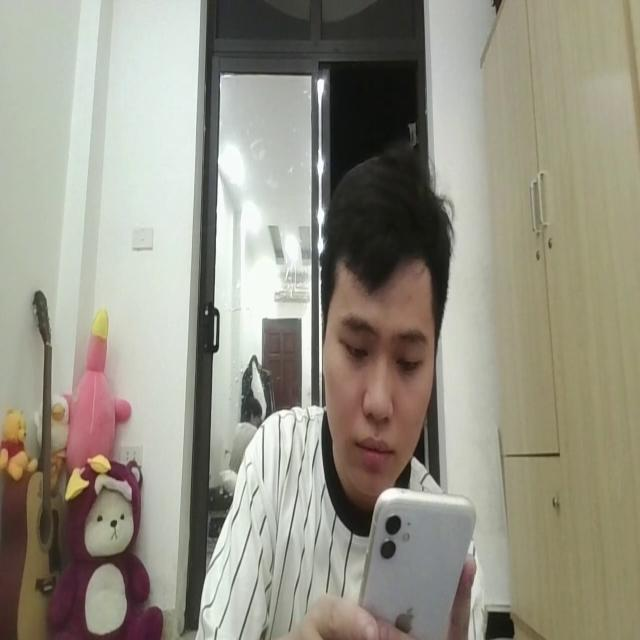phone: (360, 481, 476, 640)
student: (188, 146, 491, 640)
